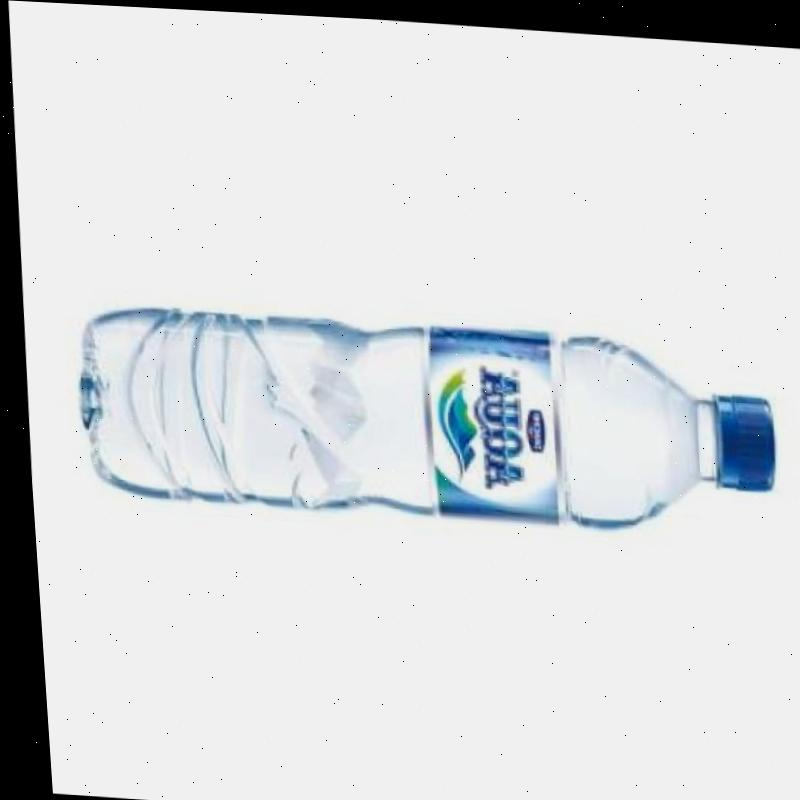botella: (68, 300, 772, 534)
